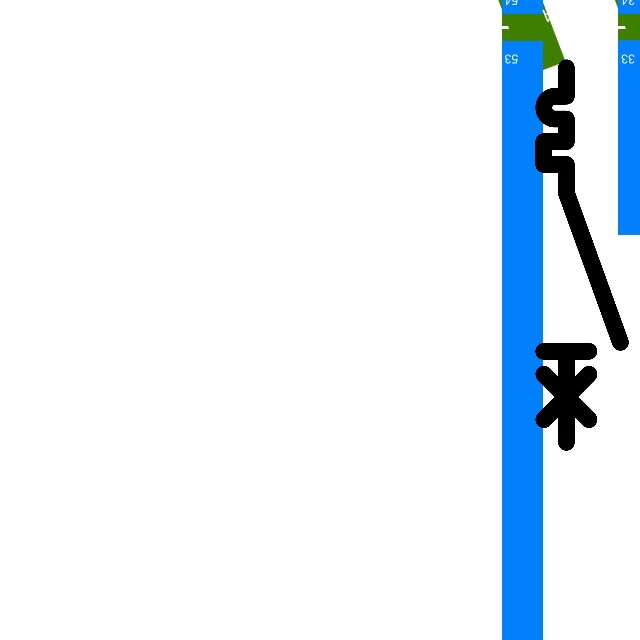interruptor_termomagnetico: (534, 58, 630, 452)
